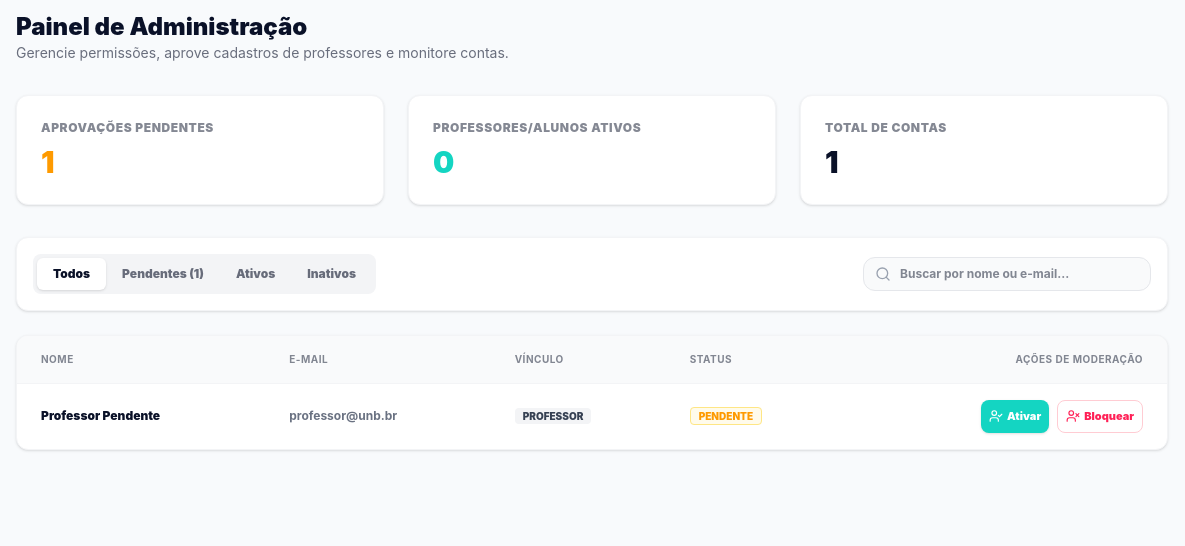
Test: AdminDashboardPage › deve ativar usuário com sucesso
The width and height of the screenshot is (1185, 546).
Expected: the text "Professor Pendente" is shown, [17, 384, 273, 449]
Click the button "Ativar".
click(1015, 416)  # box [981, 400, 1049, 433]
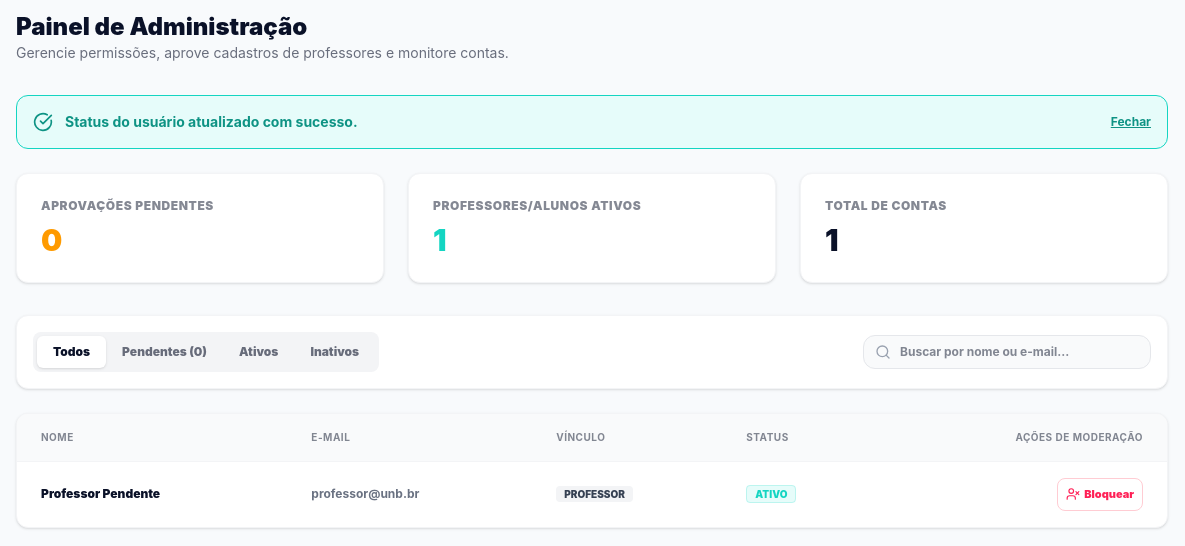
Now the text "Status do usuário atualizado com sucesso." is shown, box [65, 112, 358, 132]
Click the button "Fechar".
click(1131, 122)  # box [1111, 114, 1151, 130]
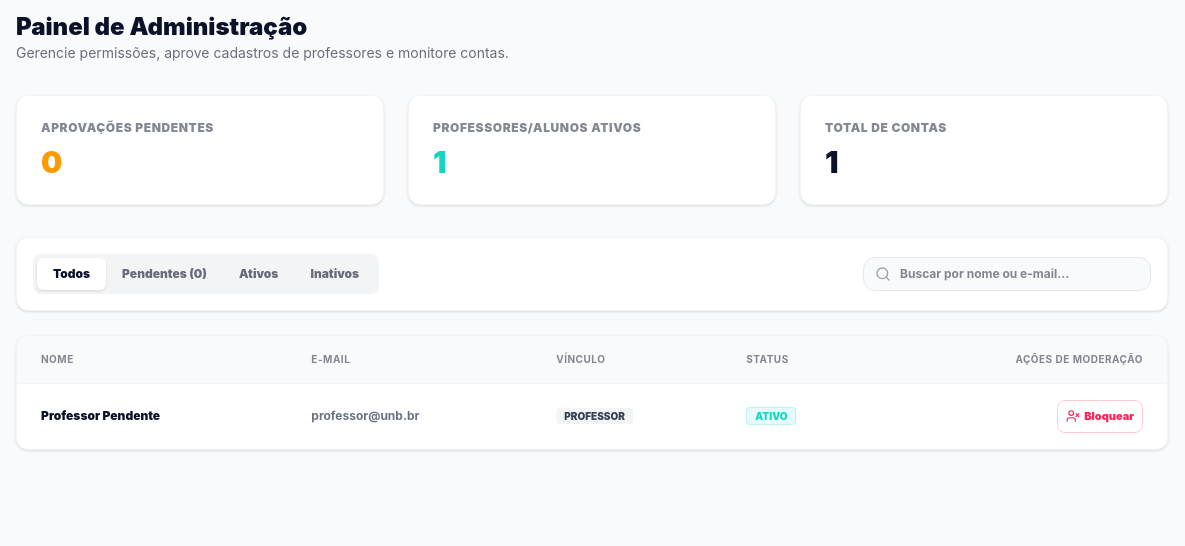
Now the text "Status do usuário atualizado com sucesso." is gone
